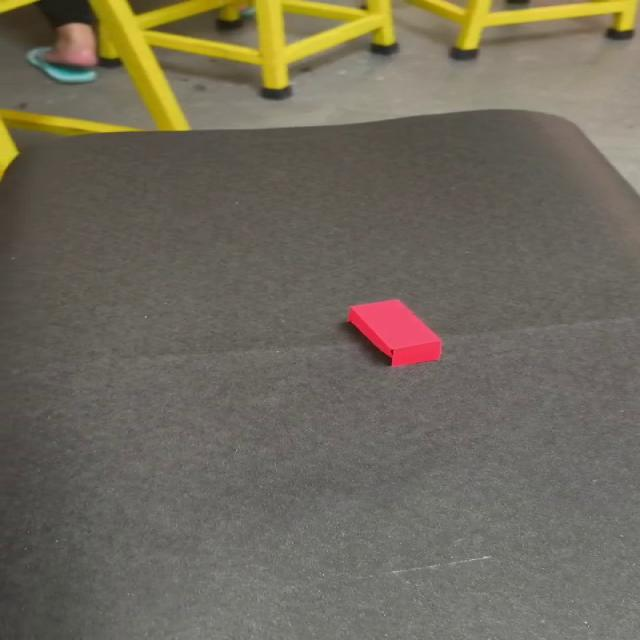red block: (345, 298, 443, 367)
